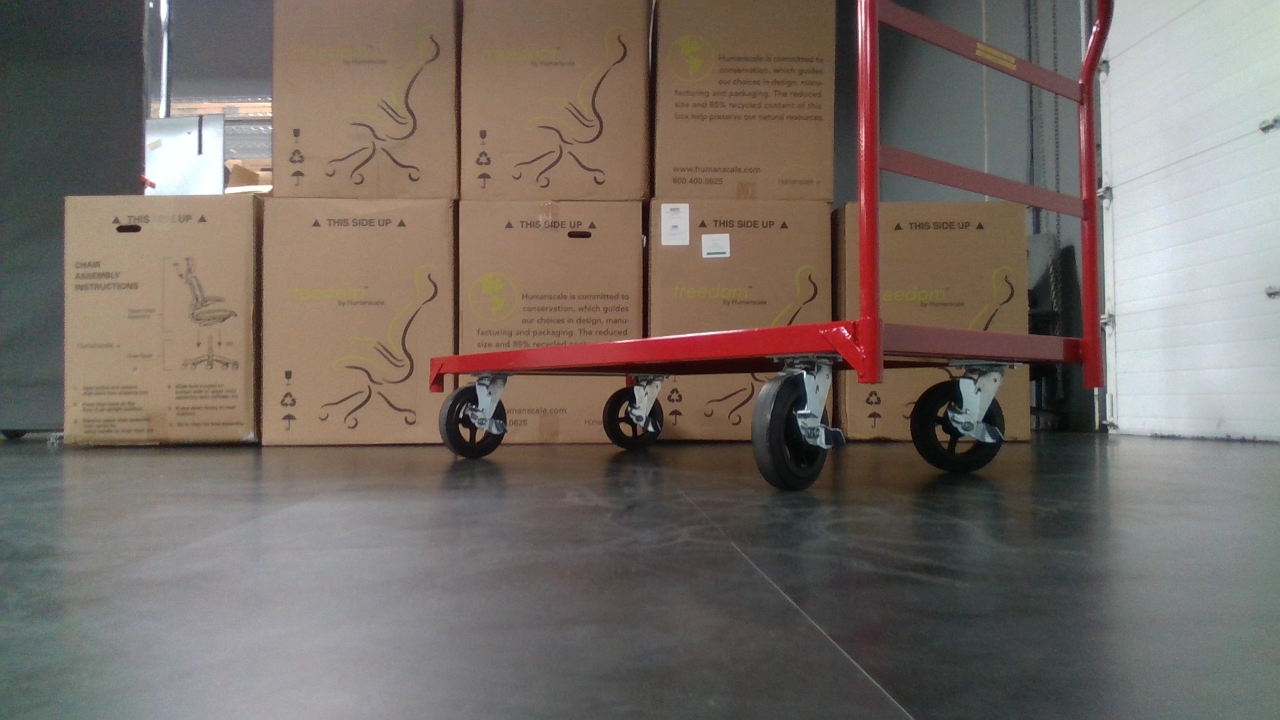Dolly: (426, 0, 1116, 497)
Wheel: (749, 365, 844, 495), (906, 369, 1008, 475), (438, 375, 508, 461), (599, 380, 671, 453)
